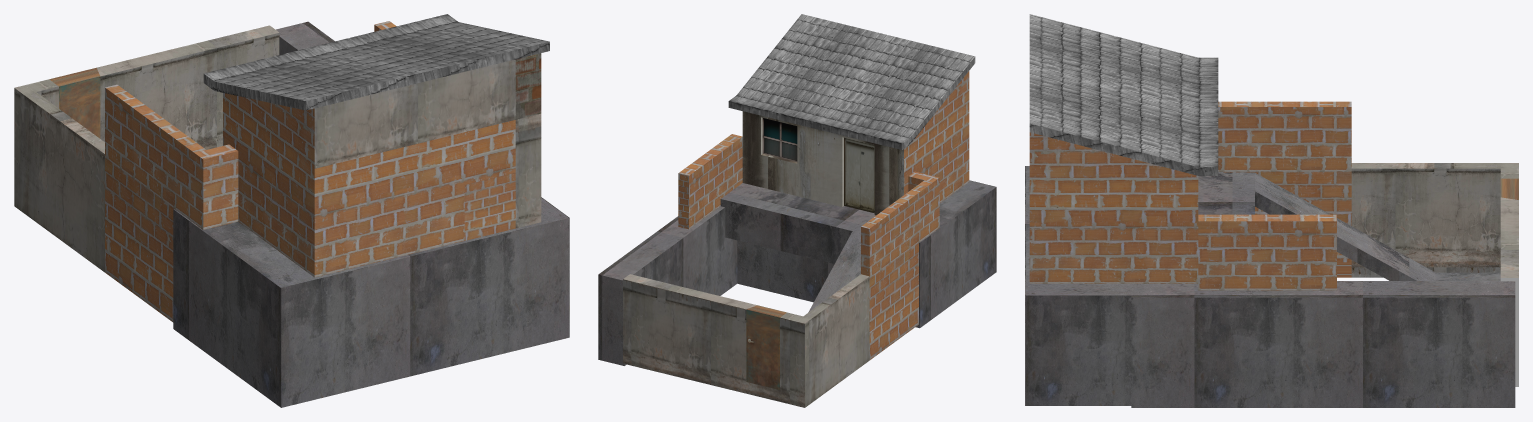
The model's file is casa3.glb.
The picture shows the model from 3 angles, left to right: view 1: azimuth 30°, elevation 25°; view 2: azimuth 150°, elevation 25°; view 3: azimuth 270°, elevation 25°; orthographic projection. The views are drawn at different scales.
Parts seen in each view (by area): view 1: Cubo.001; view 2: Cubo.001; view 3: Cubo.001.
Boxes of the visible parts, box(x1,y1,x2,y2) form: Cubo.001: box(14, 14, 569, 407); Cubo.001: box(598, 14, 996, 407); Cubo.001: box(1025, 14, 1518, 407).
Size of the model in its own units: 2.77 by 2.7 by 4.39.
Materials: 12 (11 with a texture image).
